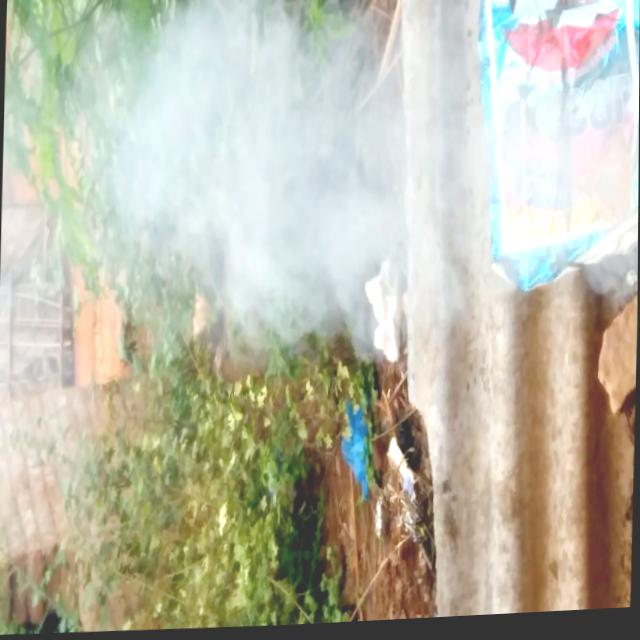no_helmet: (55, 0, 474, 385)
